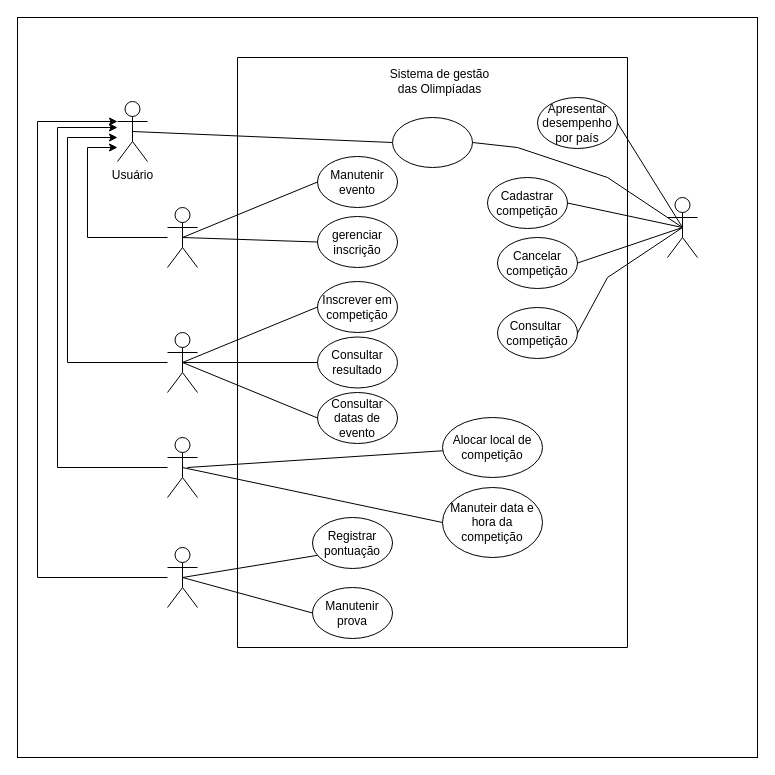
Image size: 775x775. Some labels were removed from this diagram. Each missing label, with the centre of its shape:
"Atleta" goes at pixel 182 362.
"Comitê Olímpico" goes at pixel 182 467.
"Federação Olímpica" goes at pixel 682 227.
"Organizadores" goes at pixel 182 237.
"Realizar login" goes at pixel 432 142.
"Árbitro" goes at pixel 182 577.
